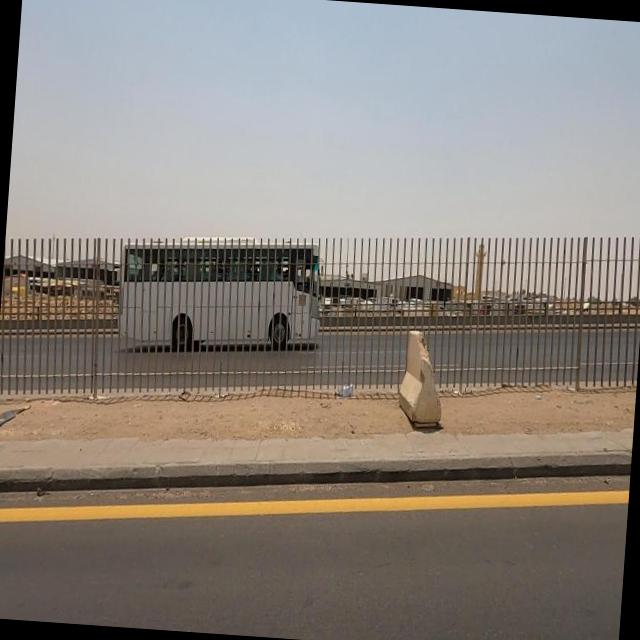debris: (314, 352, 378, 426), (516, 364, 561, 428)
